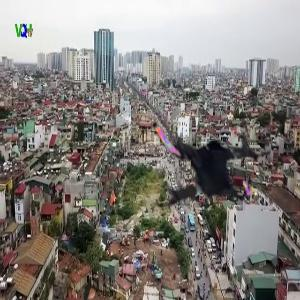drone: (129, 80, 279, 230)
